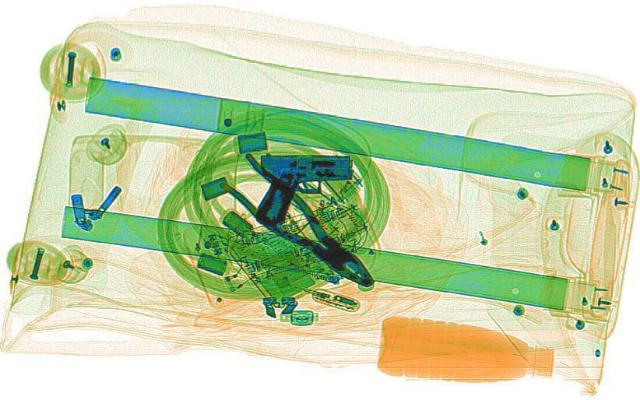Gun: (253, 152, 354, 220)
Pliers: (197, 151, 396, 291)
